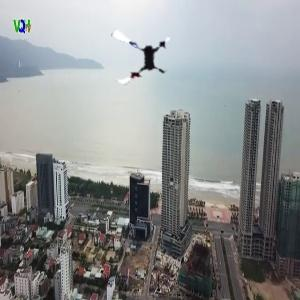drone: (103, 18, 178, 93)
